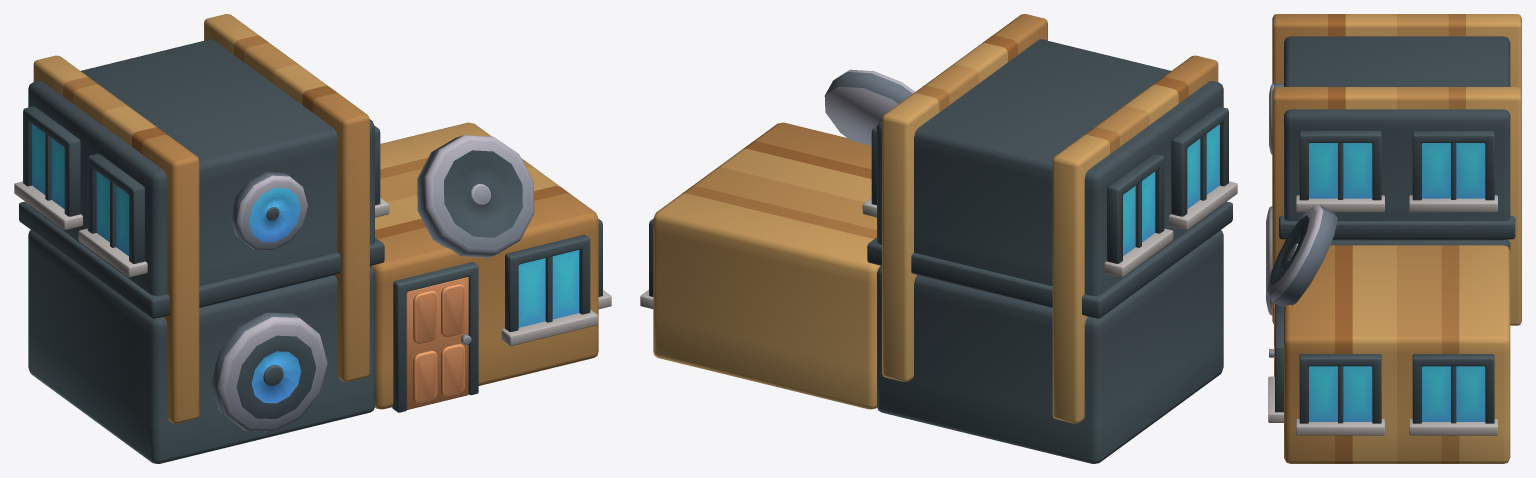
The model's file is mct_build_full_music.fbx.
3 renders of one model, left to right at view 1: azimuth 30°, elevation 25°; view 2: azimuth 150°, elevation 25°; view 3: azimuth 270°, elevation 25°, orthographic. The views are drawn at different scales.
Parts seen in each view (by area): view 1: mct_build_full_music, mct_build_full_music_door; view 2: mct_build_full_music; view 3: mct_build_full_music.
Boxes of the visible parts, x1,y1,x2,y2 form: mct_build_full_music: (14,14,611,463); mct_build_full_music_door: (406,277,471,409); mct_build_full_music: (640,14,1237,463); mct_build_full_music: (1266,14,1521,463).
Bounding box in the file's own units: 865 × 524 × 452.
